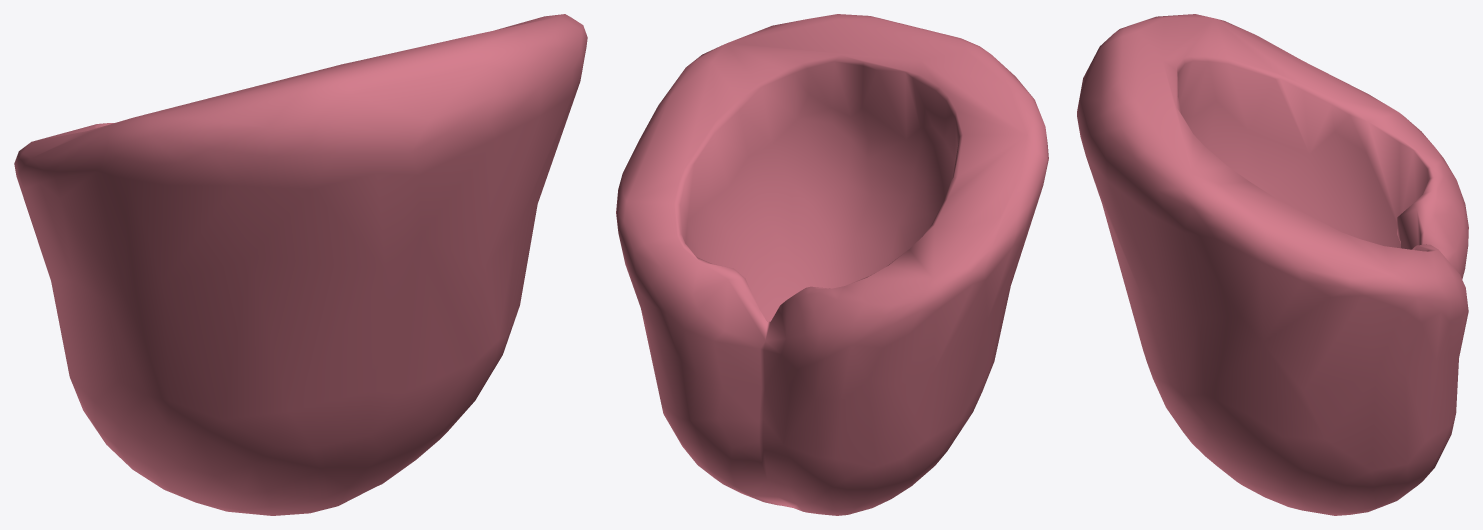
Rendered from Glans_penis.glb.
3 views of the same model, side by side, from view 1: azimuth 30°, elevation 25°; view 2: azimuth 150°, elevation 25°; view 3: azimuth 270°, elevation 25° (orthographic). The views are drawn at different scales.
Visible parts, largest first — view 1: Glans_penis_Generated_Mesh_From_X3D.111; view 2: Glans_penis_Generated_Mesh_From_X3D.111; view 3: Glans_penis_Generated_Mesh_From_X3D.111.
Part boxes in pixels (x1=…): Glans_penis_Generated_Mesh_From_X3D.111: x1=14, y1=14, x2=587, y2=515; Glans_penis_Generated_Mesh_From_X3D.111: x1=616, y1=14, x2=1048, y2=515; Glans_penis_Generated_Mesh_From_X3D.111: x1=1077, y1=14, x2=1468, y2=515.
Bounding box in the file's own units: 0.0308 × 0.0315 × 0.0257.
